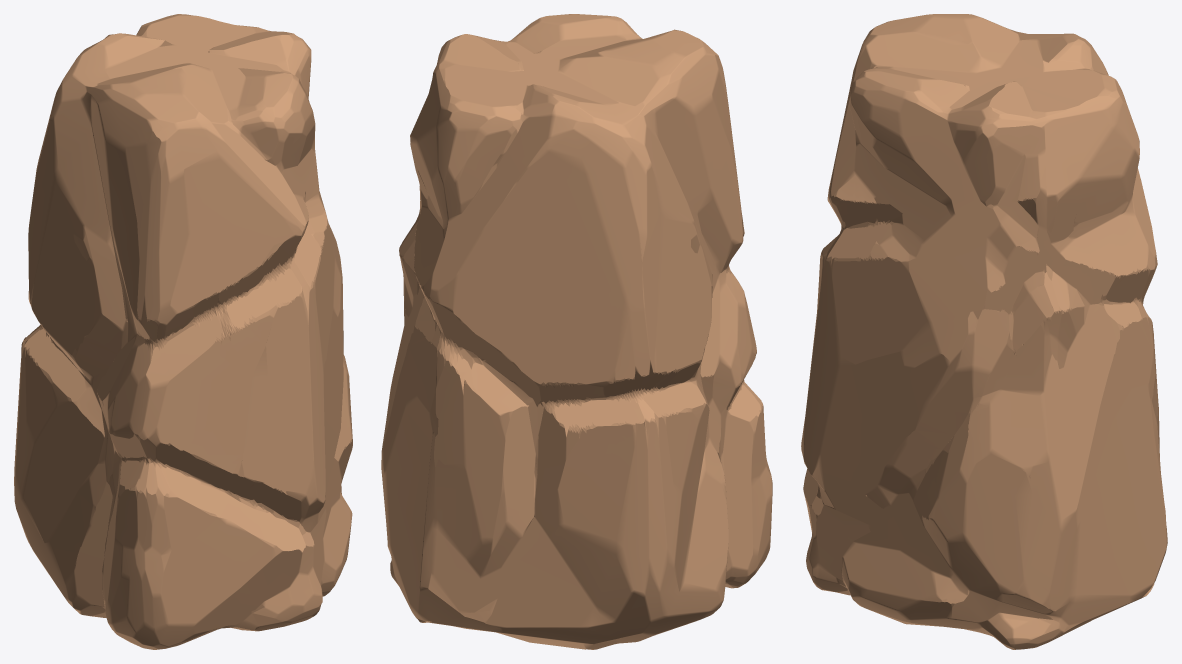
The picture shows the model from 3 angles, left to right: view 1: azimuth 30°, elevation 25°; view 2: azimuth 150°, elevation 25°; view 3: azimuth 270°, elevation 25°; orthographic projection. The views are drawn at different scales.
Parts seen in each view (by area): view 1: Mesh_22_LOD0; view 2: Mesh_22_LOD0; view 3: Mesh_22_LOD0.
Part boxes in pixels (x1,y1,x2,y2): Mesh_22_LOD0: (14, 14, 352, 649); Mesh_22_LOD0: (381, 14, 772, 649); Mesh_22_LOD0: (801, 14, 1167, 649).
Size of what is drawn, in the model's own units: 1236 by 2142 by 1337.
